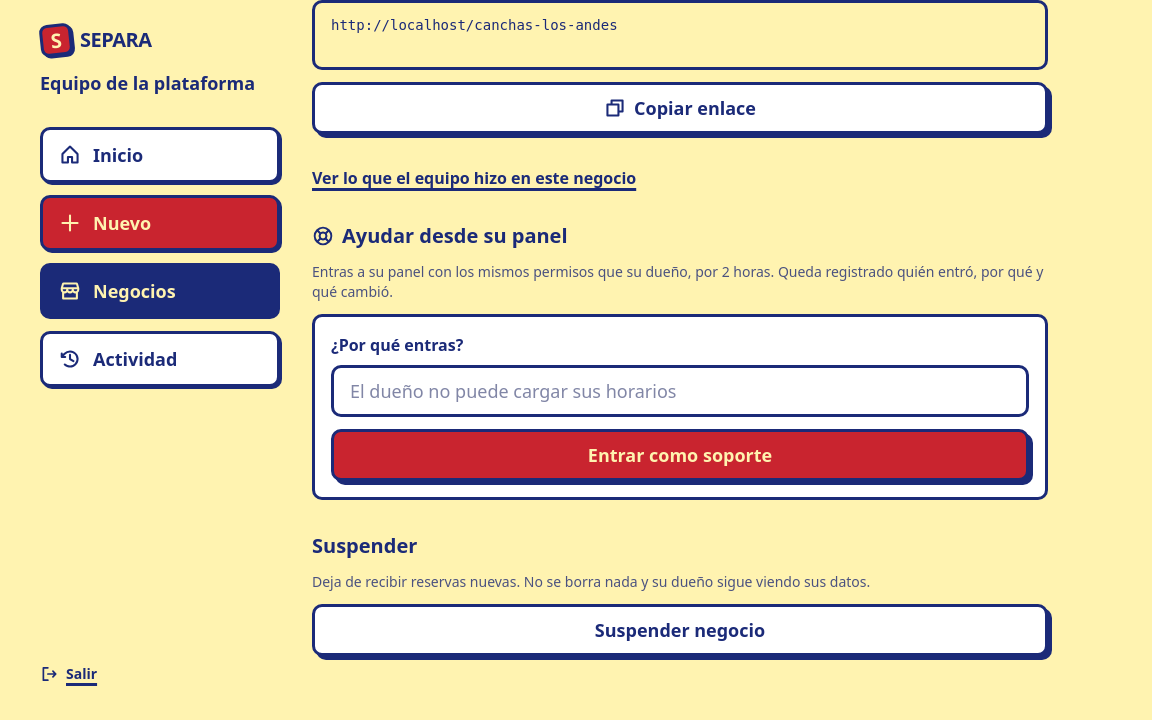
entering as support › opens a session with the reason and goes into the business panel
(page scrolled)
Type "Ayuda con los horarios" into the field labelled "¿Por qué entras?".
click(680, 391); type("Ayuda con los horarios")  # box [331,365,1029,417]
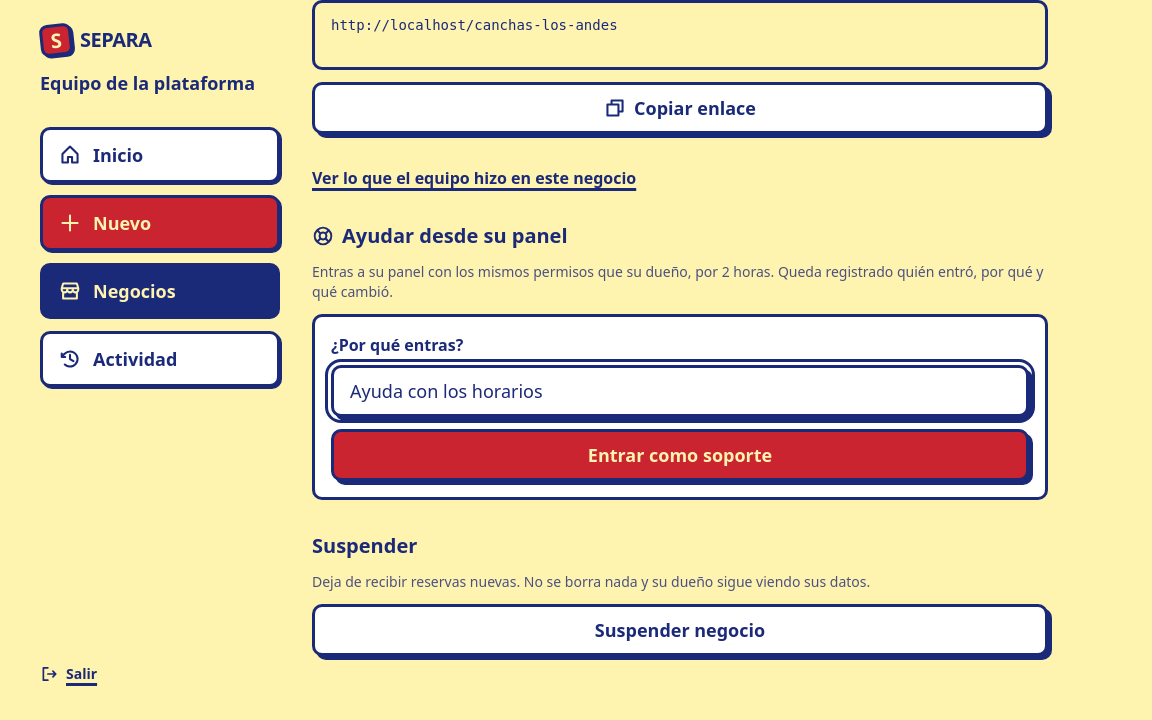
Click the button "Entrar como soporte".
click(680, 455)  # box [331,429,1029,481]
(page scrolled)
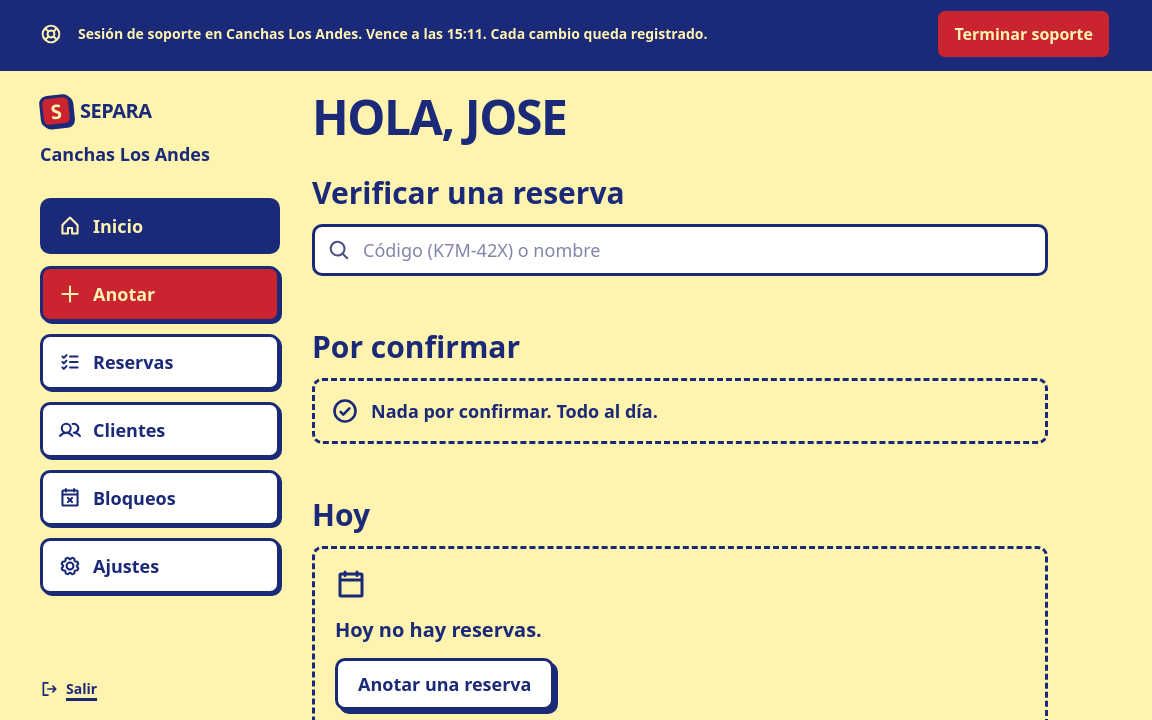
Check: the heading "Hola, Jose" is shown, box [312,84,566,149]
